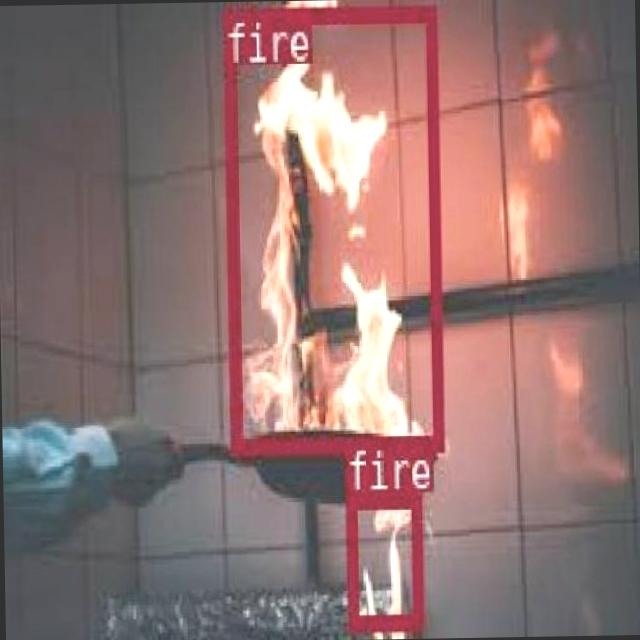fire: (222, 5, 443, 452), (342, 490, 420, 628)
